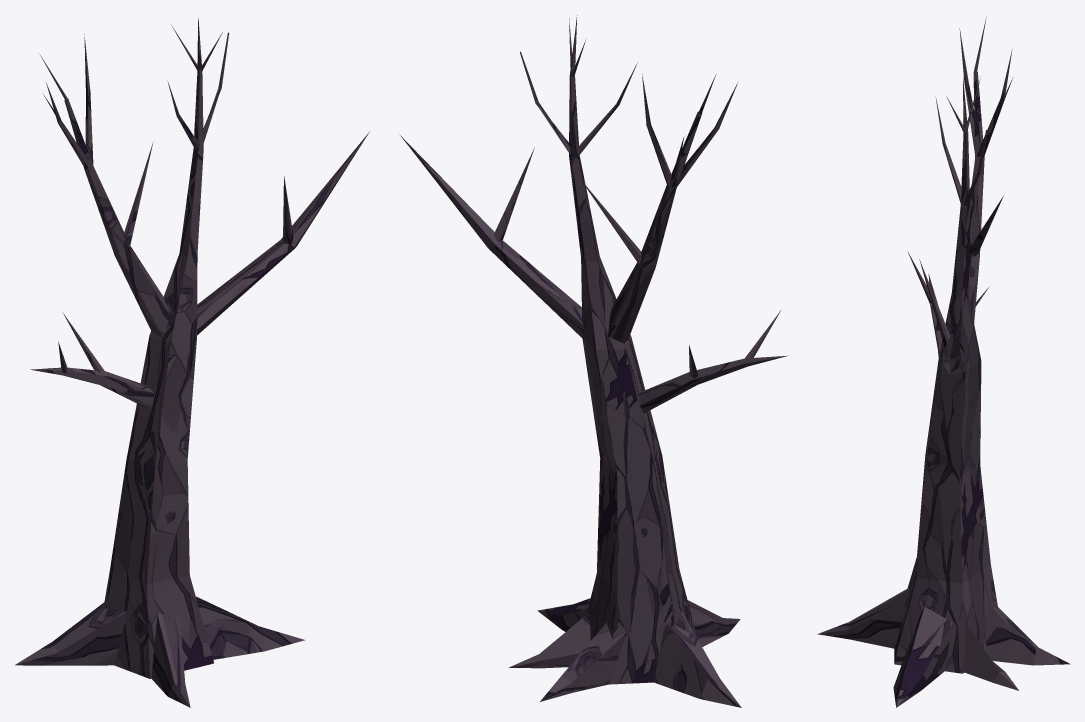
File: Tree02.glb
3 views of the same model, side by side, from view 1: azimuth 30°, elevation 25°; view 2: azimuth 150°, elevation 25°; view 3: azimuth 270°, elevation 25° (orthographic). The views are drawn at different scales.
Parts seen in each view (by area): view 1: Tree02; view 2: Tree02; view 3: Tree02.
Part boxes in pixels (x1,y1,x2,y2): Tree02: (15,17,369,707); Tree02: (399,15,787,707); Tree02: (817,16,1070,707).
Bounding box in the file's own units: 6.89 × 11.35 × 4.35.
Materials: 1 (1 with a texture image).
